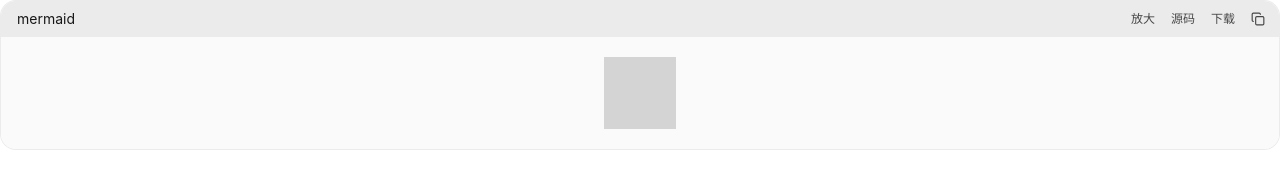
Test: Mermaid 图表预览 › 浏览器端下载在链接加入页面后触发，并延后释放 Blob 地址
What coordinates should you click on to do the following:
click the button "下载"
I would click on:
 (1223, 19)
Its box is [1205,7,1241,31].
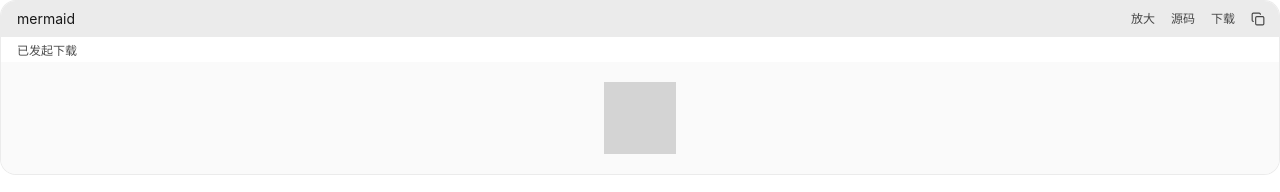
Check: the message reads "已发起下载", box [17,43,77,58]
